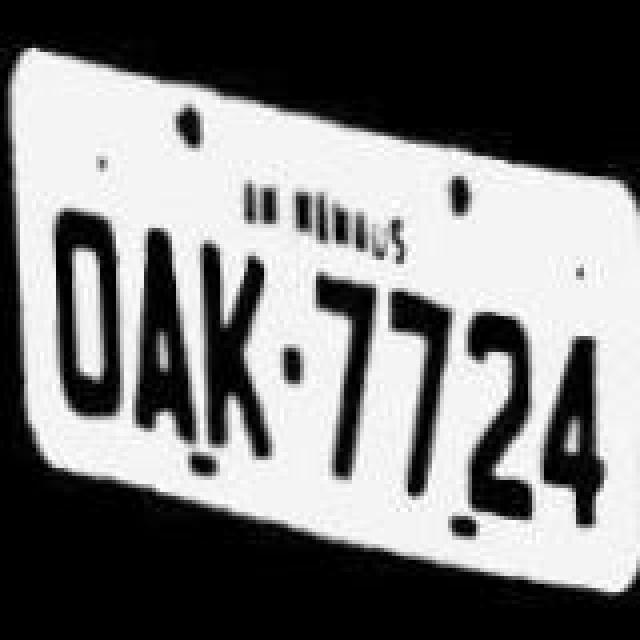2: (454, 298, 538, 526)
4: (528, 328, 612, 544)
7: (378, 280, 466, 516), (298, 266, 386, 490)
A: (114, 212, 198, 456)
K: (190, 228, 274, 464)
O: (44, 194, 124, 422)
